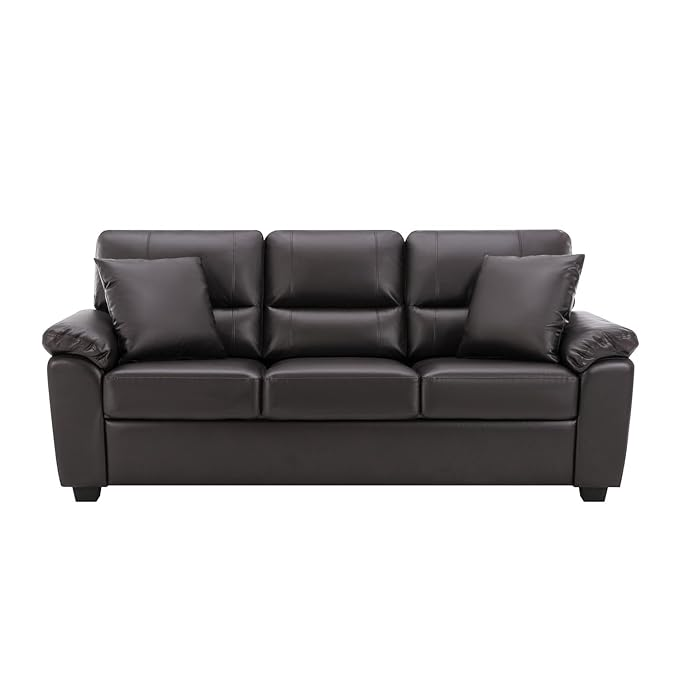3seatersofa: (43, 230, 637, 501)
backrest: (96, 230, 569, 359)
base: (107, 422, 572, 484)
leftarmrest: (561, 311, 637, 486)
leg: (74, 486, 99, 501), (580, 487, 605, 501)
pillow: (458, 255, 583, 361), (96, 258, 225, 358)
rightarmrest: (43, 310, 118, 485)
seat: (104, 358, 577, 420)
